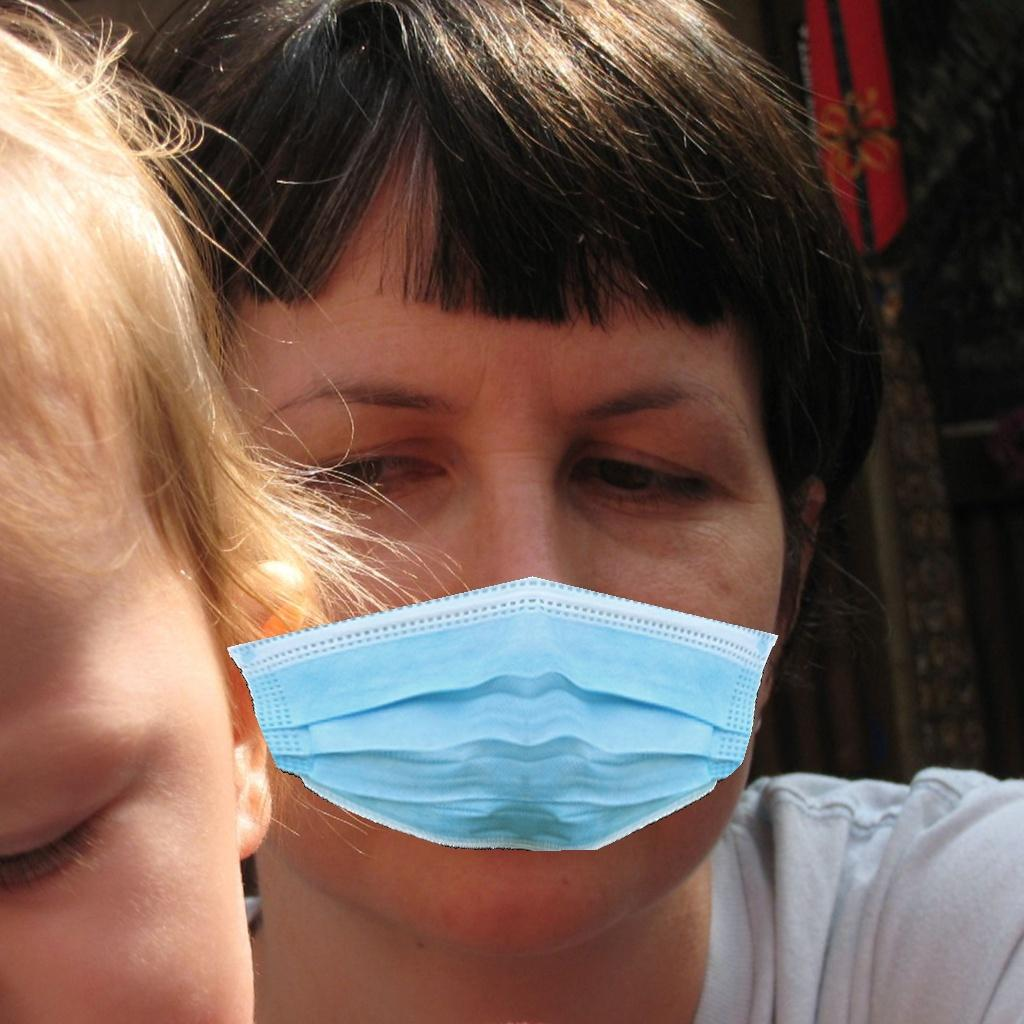Com Máscara: (195, 263, 787, 916)
